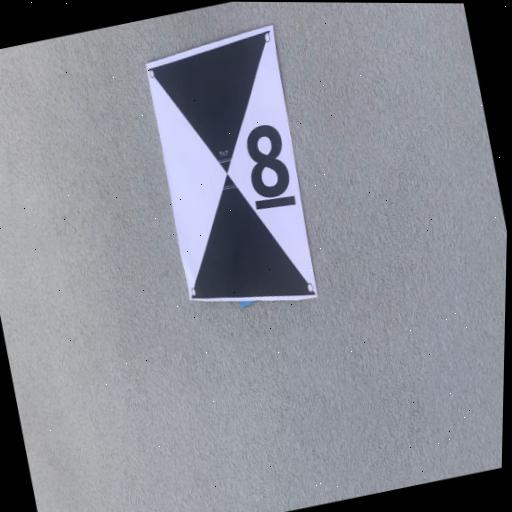target8: (145, 24, 318, 299)
